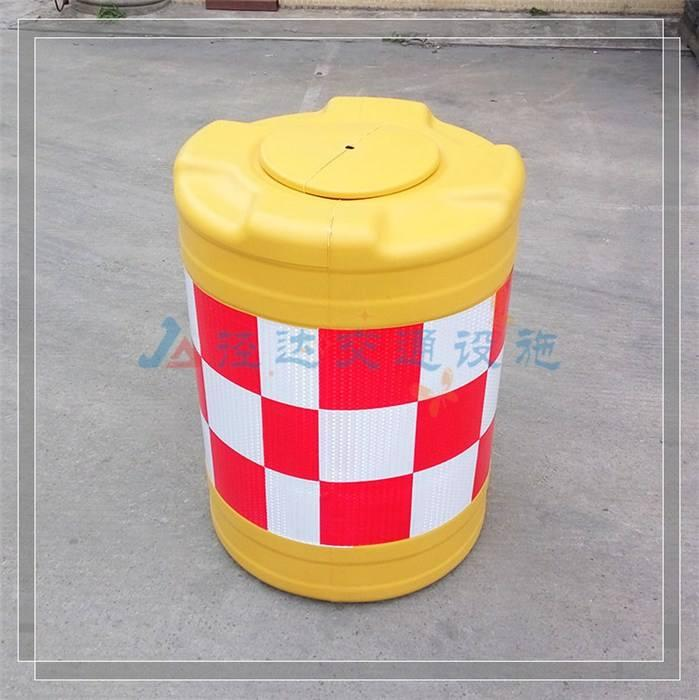sign: (169, 93, 531, 607)
